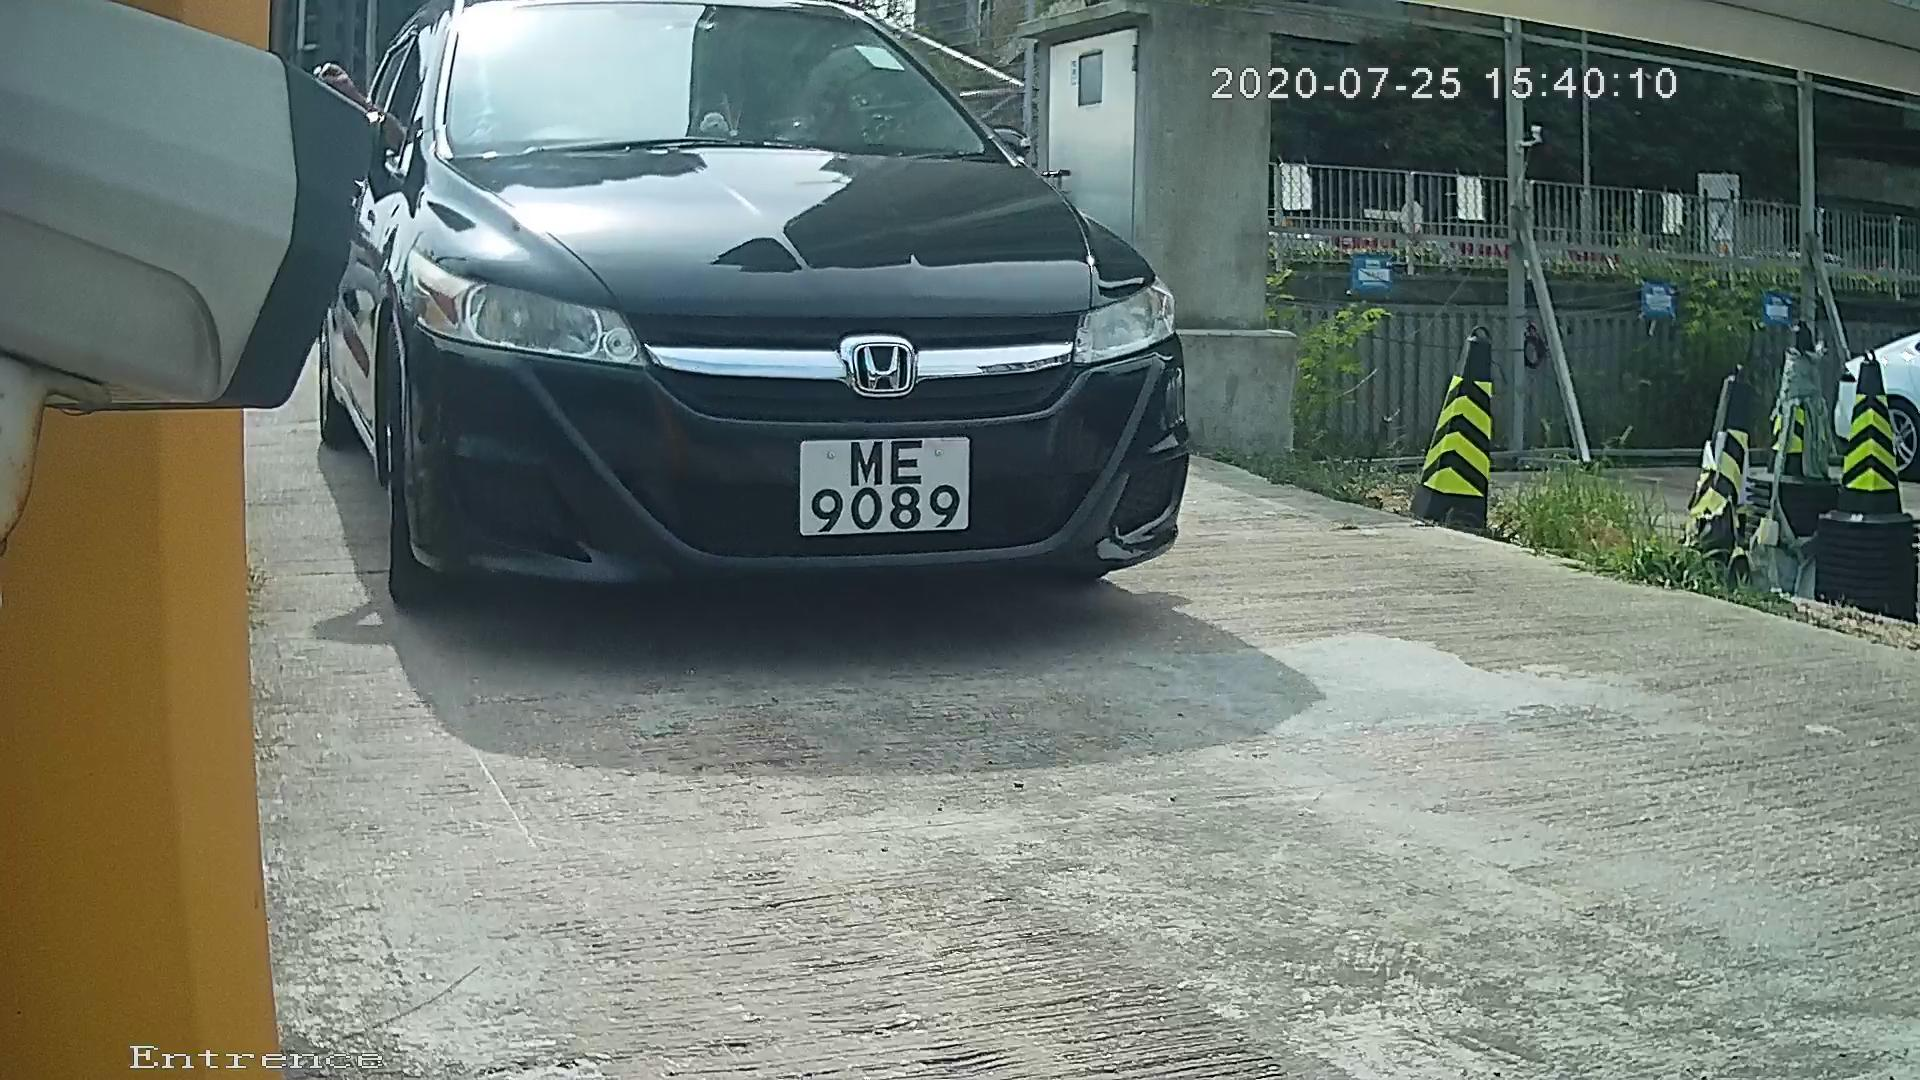Car: (163, 1, 1286, 690)
License Plate: (772, 430, 986, 555)
